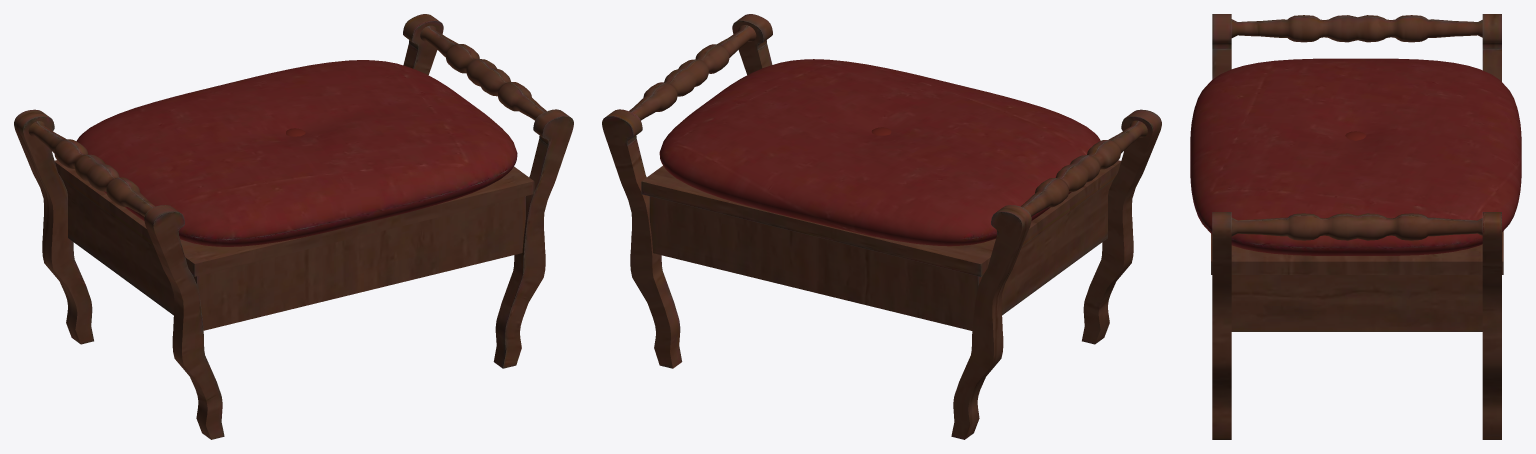
The model's file is pian_piano_chair__free_download.glb.
The picture shows the model from 3 angles, left to right: view 1: azimuth 30°, elevation 25°; view 2: azimuth 150°, elevation 25°; view 3: azimuth 270°, elevation 25°; orthographic projection. The views are drawn at different scales.
Visible parts, largest first — view 1: PianoChair_Mat_PianoChair.001_0; view 2: PianoChair_Mat_PianoChair.001_0; view 3: PianoChair_Mat_PianoChair.001_0.
Part boxes in pixels (x1=…): PianoChair_Mat_PianoChair.001_0: x1=14, y1=14, x2=573, y2=439; PianoChair_Mat_PianoChair.001_0: x1=602, y1=14, x2=1161, y2=439; PianoChair_Mat_PianoChair.001_0: x1=1190, y1=14, x2=1521, y2=439.
Bounding box in the file's own units: 2.4 × 1.3 × 1.58.
1 material, 1 textured.
